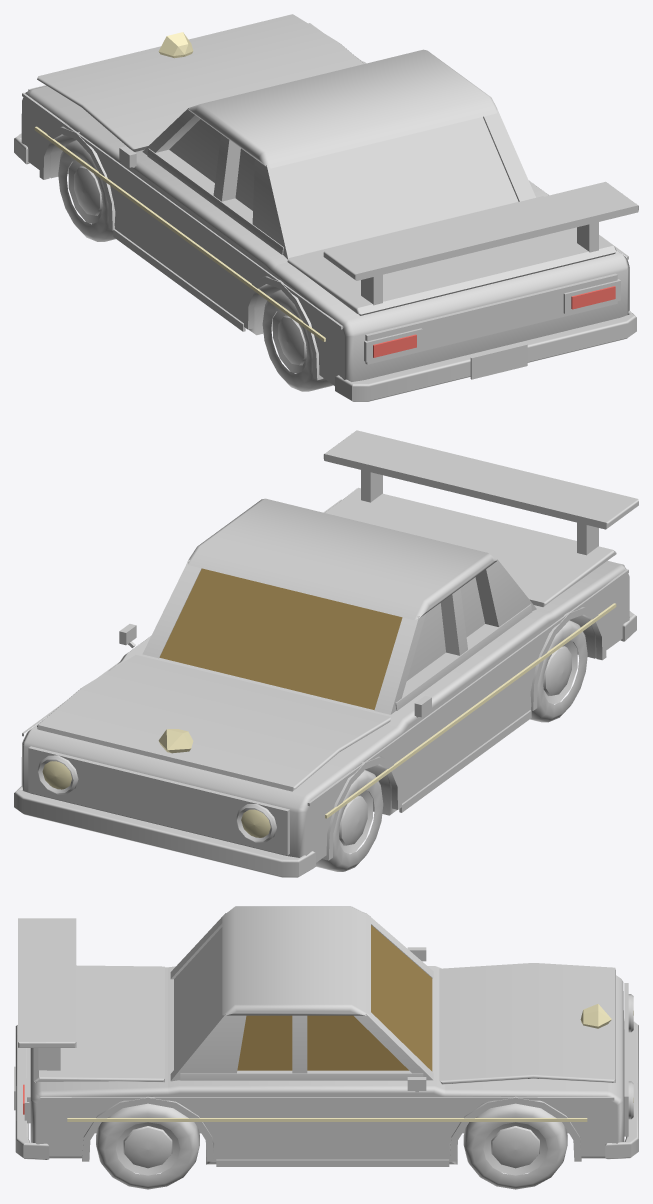
The model's file is GoldenCar.glb.
3 views of the same model, one above another, from view 1: azimuth 30°, elevation 25°; view 2: azimuth 150°, elevation 25°; view 3: azimuth 270°, elevation 25° (orthographic). The views are drawn at different scales.
Visible parts, largest first — view 1: Body, Glow, Tail; view 2: Body, Glass, Glow; view 3: Body, Glass, Glow.
Part boxes in pixels (x1=…): Body: x1=14, y1=14, x2=638, y2=401; Glow: x1=34, y1=32, x2=325, y2=341; Tail: x1=373, y1=286, x2=615, y2=357; Body: x1=14, y1=430, x2=638, y2=877; Glass: x1=159, y1=568, x2=402, y2=709; Glow: x1=42, y1=603, x2=616, y2=837; Body: x1=14, y1=906, x2=638, y2=1189; Glass: x1=237, y1=925, x2=432, y2=1071; Glow: x1=67, y1=1004, x2=633, y2=1121.
Size of the model in its own units: 7.7 by 4.78 by 15.33.
